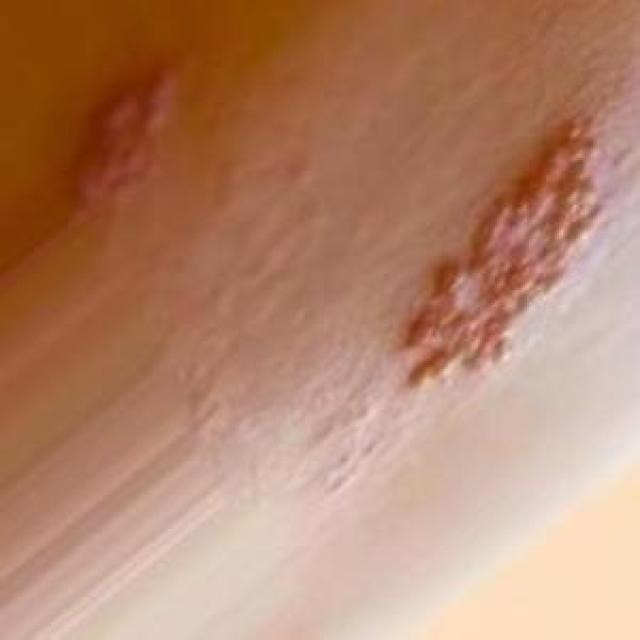Shingles: (398, 109, 606, 385), (73, 65, 178, 218)
